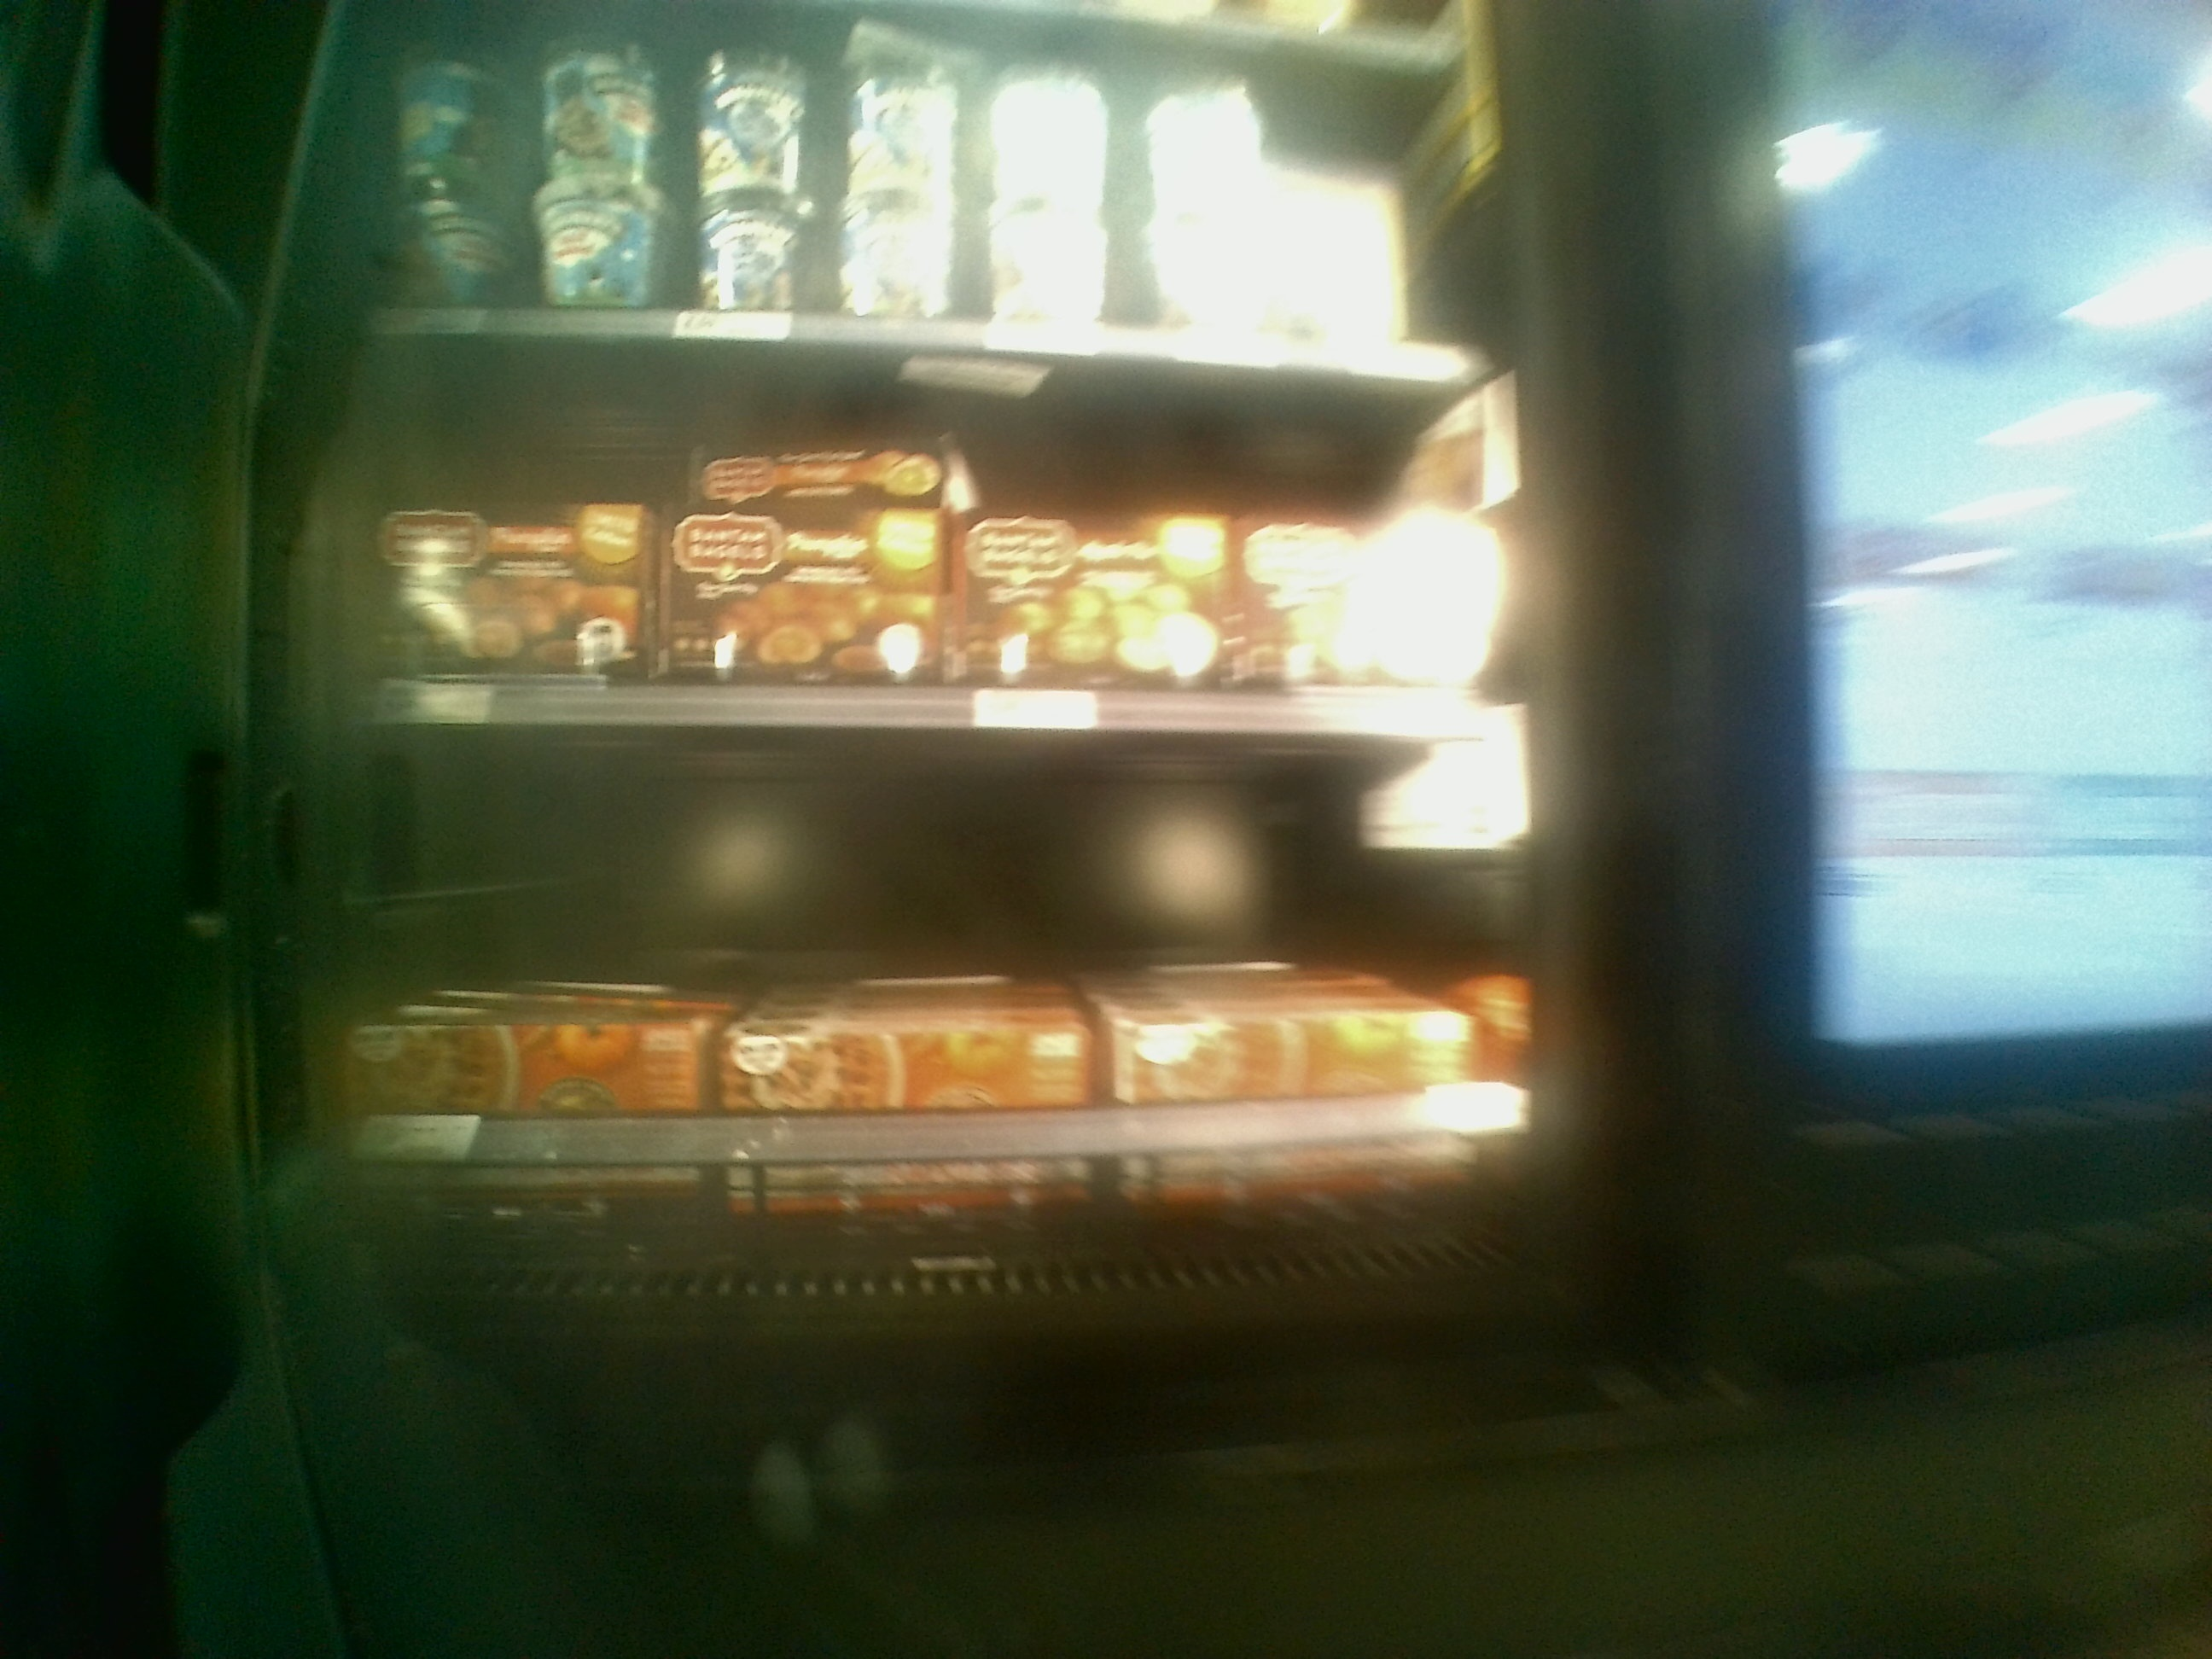shelf: (308, 723, 1588, 1319), (329, 315, 1554, 735)
